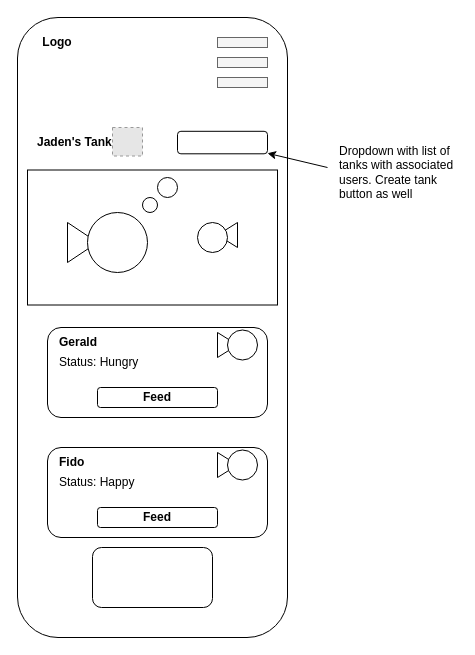
The diagram is 475 pixels wide and 655 high, and some of its shapes have lost their labels. Grey dashed boxes stand in for pictures. Each missing label, with the centre of its shape:
"Add fish +" goes at (x=152, y=577).
"Change Tank" goes at (x=222, y=142).
